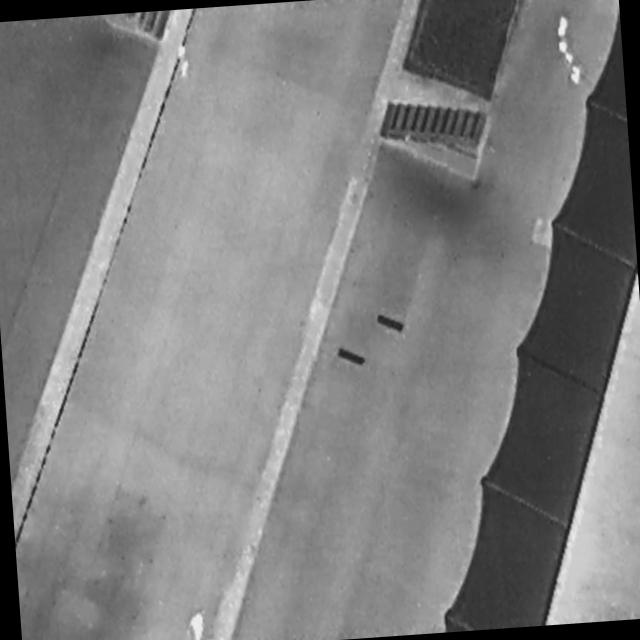person: (188, 609, 206, 640), (177, 43, 191, 79)
